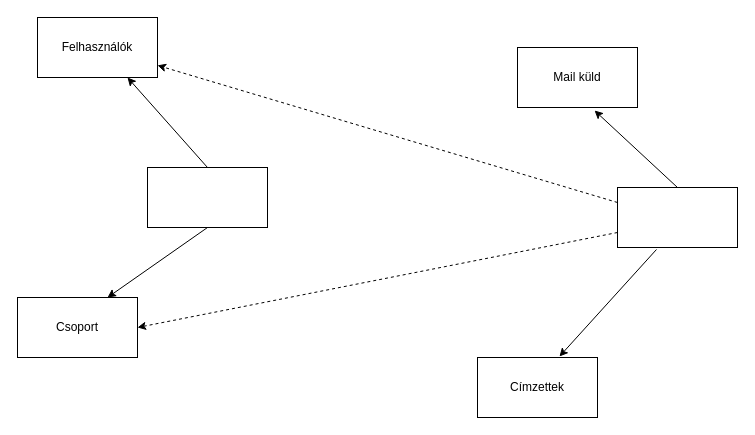
Image size: 755x435. Some labels were removed from this diagram. The shapes that lost their labels are listed below. From the top down, each one's centre as x and y in pixels, then its label:
At pixel 207 197: "Tagja".
At pixel 677 217: "Mail címzett".
